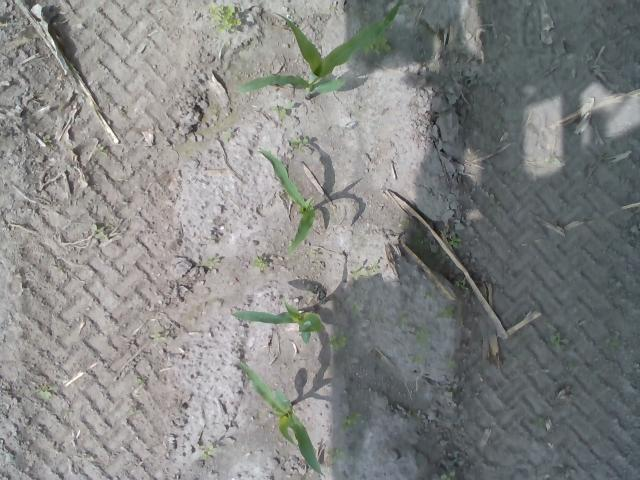Maize: (237, 12, 398, 98), (236, 360, 330, 480), (257, 146, 316, 256), (232, 302, 324, 346)
Weeds: (207, 3, 243, 34), (412, 323, 432, 363), (348, 262, 380, 279), (550, 330, 570, 352), (340, 412, 361, 428), (270, 103, 294, 116), (89, 224, 106, 241), (372, 37, 392, 51), (328, 448, 343, 466), (438, 304, 454, 320), (328, 336, 347, 349), (452, 276, 468, 290), (222, 128, 236, 144), (198, 448, 218, 458), (398, 310, 409, 328), (292, 135, 310, 146), (207, 255, 222, 268), (254, 257, 268, 270), (446, 358, 458, 370), (150, 332, 162, 342), (40, 388, 50, 398), (450, 237, 460, 246), (440, 472, 450, 480), (41, 135, 50, 143)
